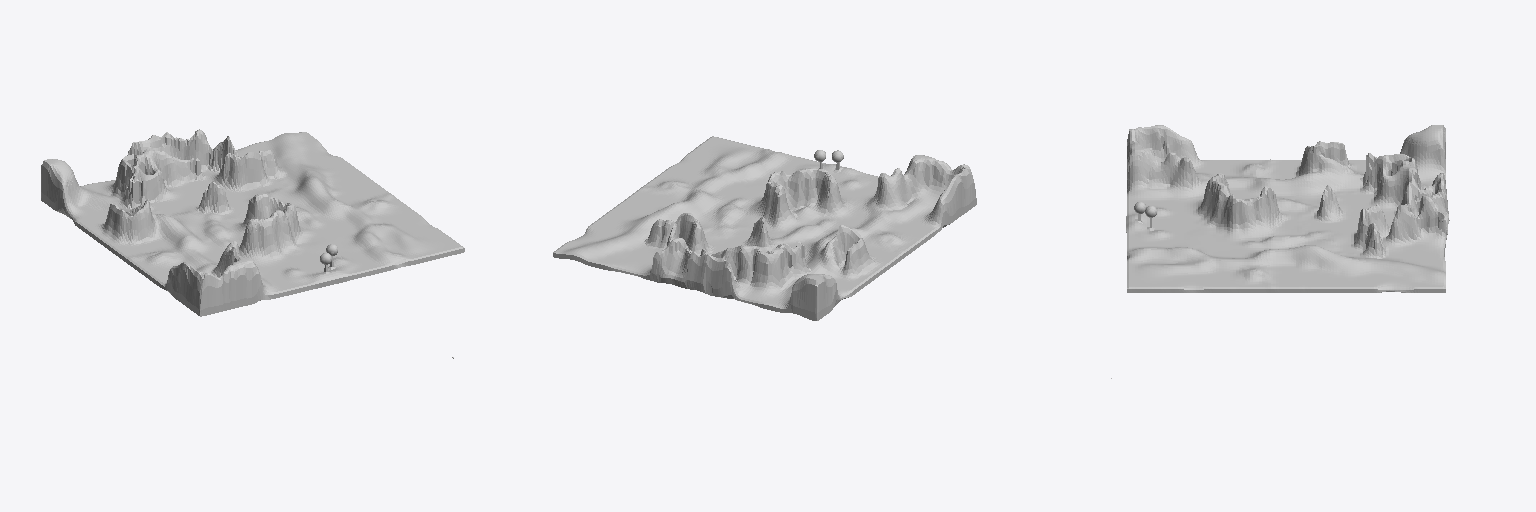
Rendered from tarreno3.obj.
3 renders of one model, left to right at view 1: azimuth 30°, elevation 25°; view 2: azimuth 150°, elevation 25°; view 3: azimuth 270°, elevation 25°, orthographic.
Visible parts, largest first — view 1: Cube; view 2: Cube; view 3: Cube.
Part boxes in pixels (bbox=[...]): Cube: bbox=[41, 129, 464, 358]; Cube: bbox=[553, 136, 976, 320]; Cube: bbox=[1111, 125, 1449, 378].
Size of the model in its own units: 352 by 173 by 390.